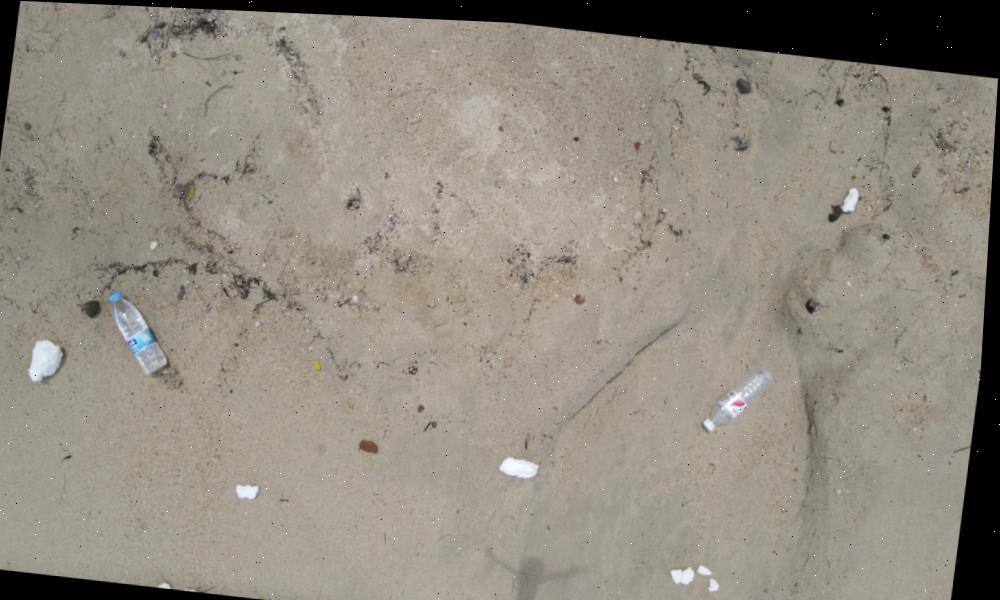plastic bottle: (105, 290, 180, 376), (704, 354, 778, 434)
styrofoam: (30, 335, 69, 386), (674, 555, 725, 582), (503, 450, 545, 476), (843, 176, 861, 207), (582, 593, 656, 600), (237, 482, 263, 500), (163, 584, 203, 590)
